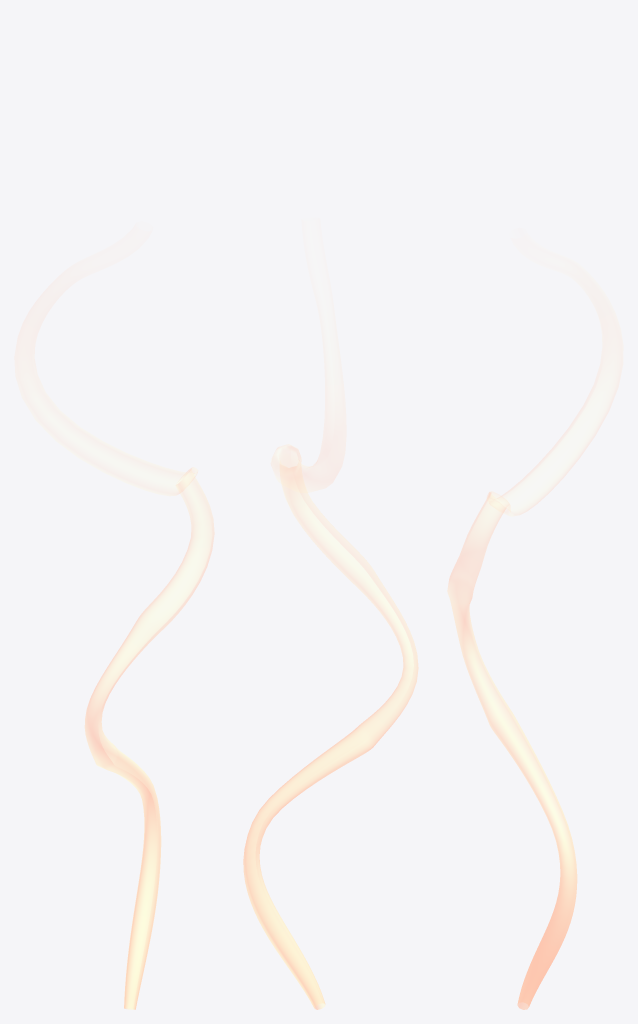
Rendered from strand_a_danger.glb.
The picture shows the model from 3 angles, left to right: view 1: azimuth 30°, elevation 25°; view 2: azimuth 150°, elevation 25°; view 3: azimuth 270°, elevation 25°; orthographic projection.
Size of the model in its own units: 1.23 by 9.02 by 1.45.
